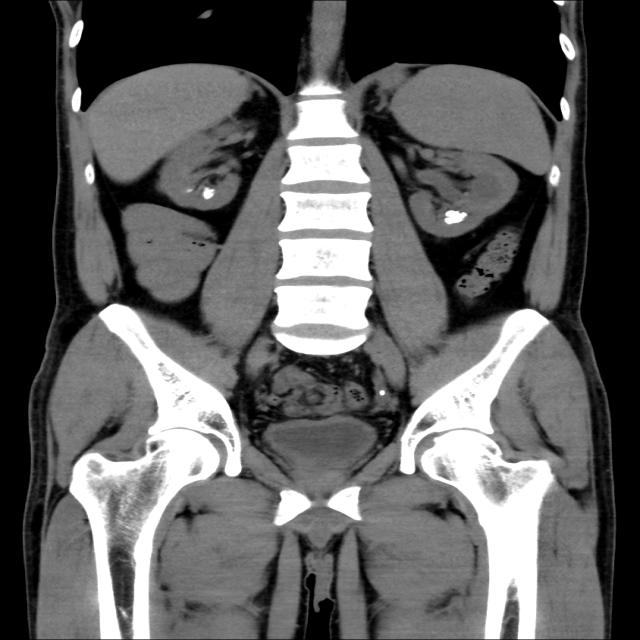kidneystone: (445, 210, 466, 224), (199, 186, 216, 199)
